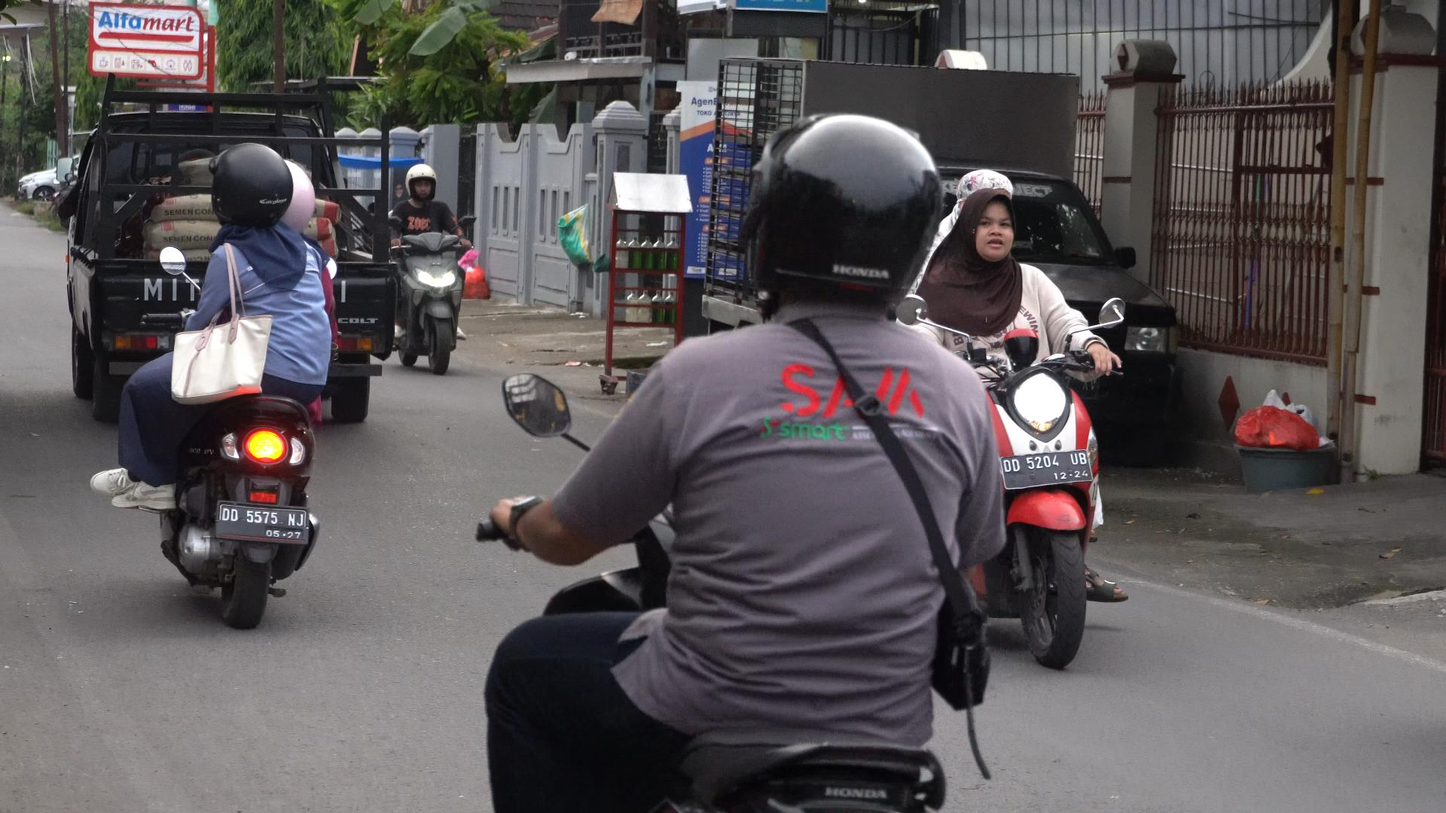number-plate: (1000, 450, 1099, 489)
